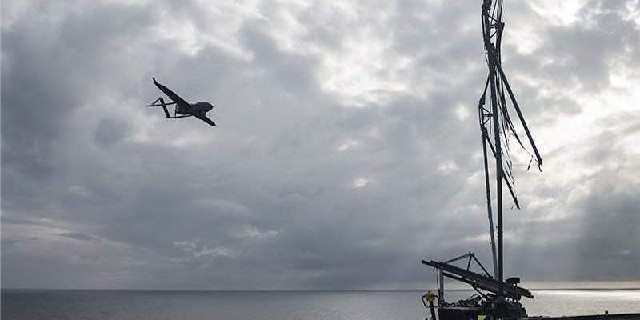maybay_khongnguoilai: (143, 74, 221, 131)
